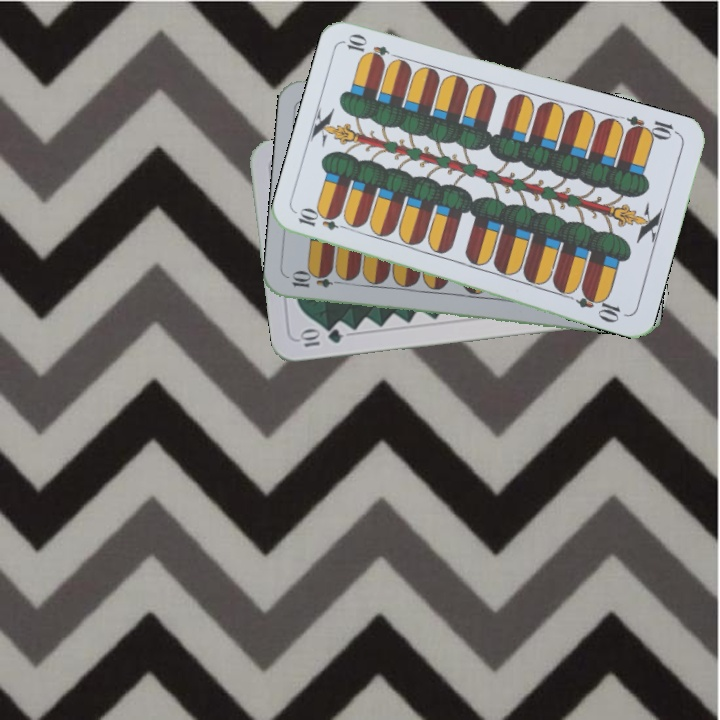E10: (622, 112, 681, 143), (294, 207, 353, 233), (288, 271, 347, 291)
G10: (295, 325, 345, 350)
